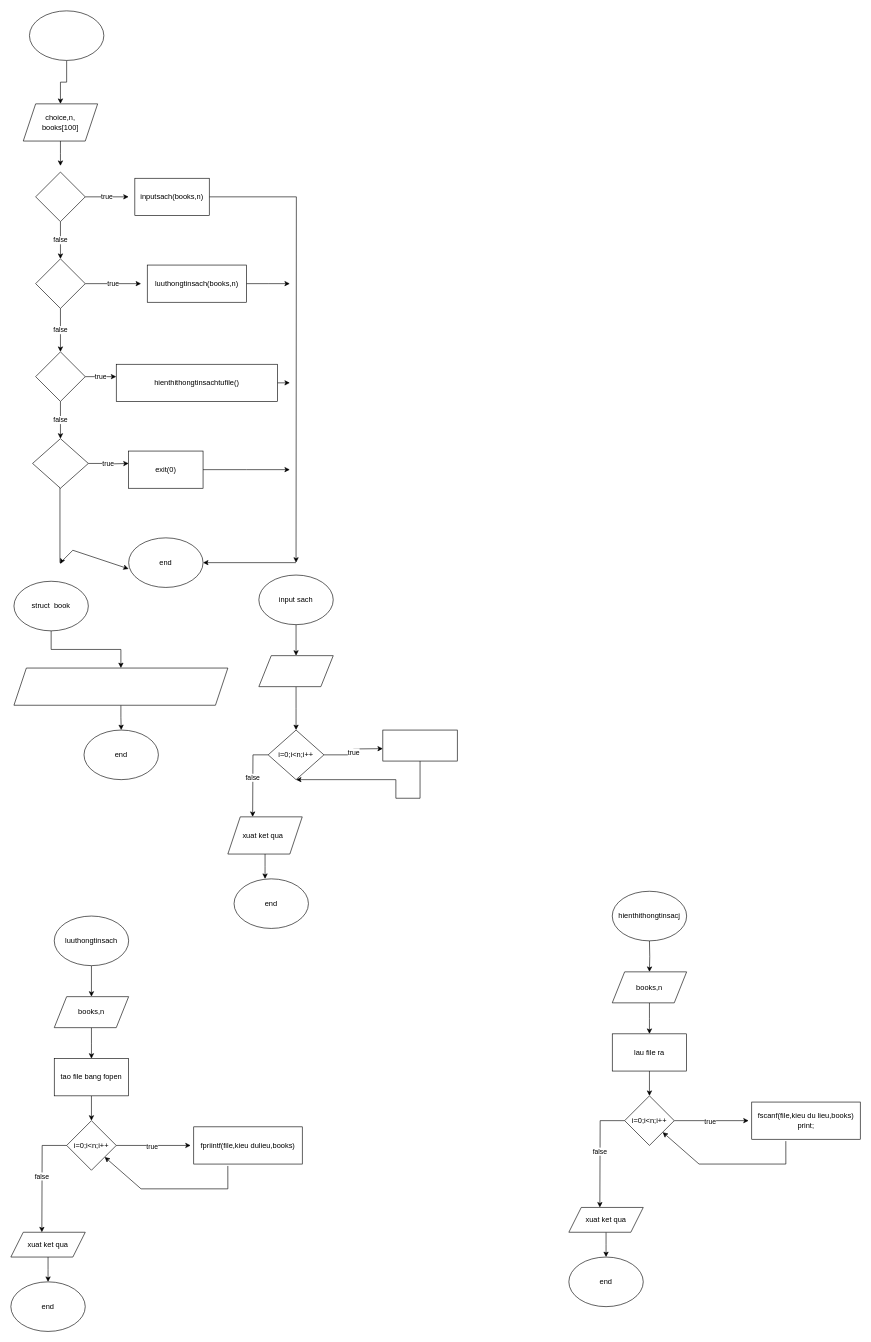
Image size: 871x1342. Some labels were removed from this diagram. Each missing label, with the centre of its shape:
books,*n: point 295,671
choice=2: point 60,283
choice==1: point 60,196
choice==3: point 60,376
choice==4: point 60,463
masach,tensach,tacgia,giatien,theloai: point 120,686
nhap thong tin books: point 419,745
start: point 66,35
